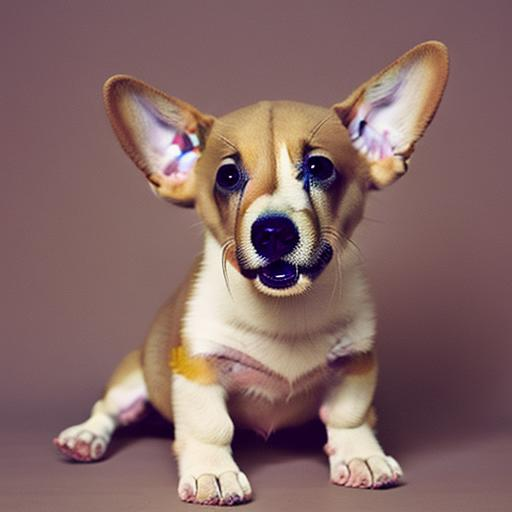eye: (296, 151, 346, 187), (211, 160, 253, 194)
